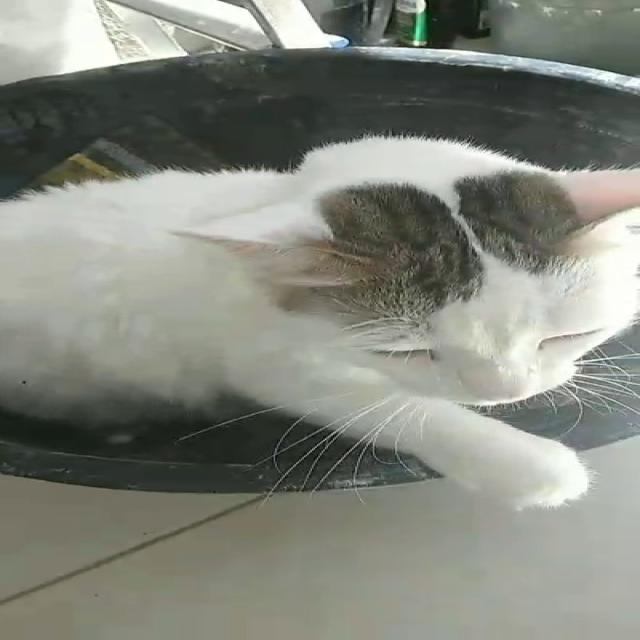Simba: (7, 120, 638, 514)
